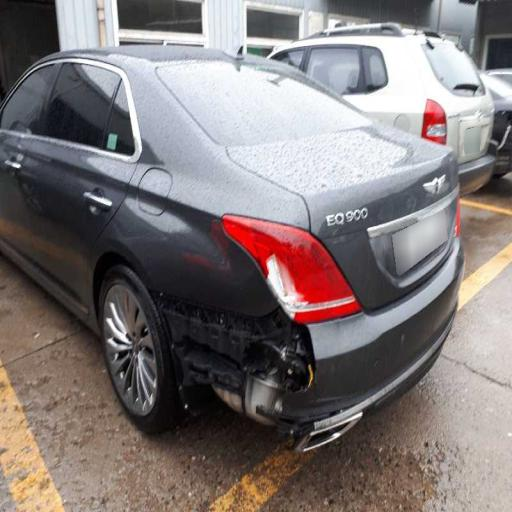broken: (154, 334, 318, 462)
scratch: (241, 231, 364, 325)
